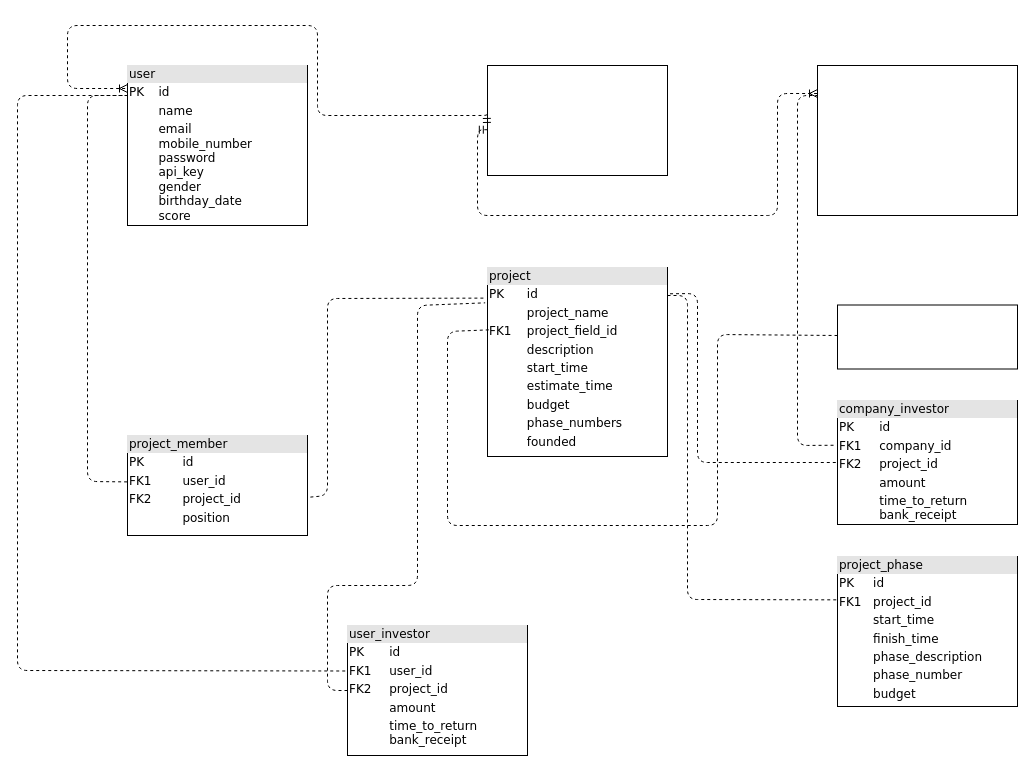
The diagram is 1035 pixels wide and 773 high, and some of its shapes have lost their labels. The centre of each missing label's shape, as x and y in pixels:
company PK id name address email business_field founded_year description tel: point (917, 140)
member PK id FK1 user_id FK2 company_id position: point (577, 120)
project_fields PK id filed_name: point (927, 336)
